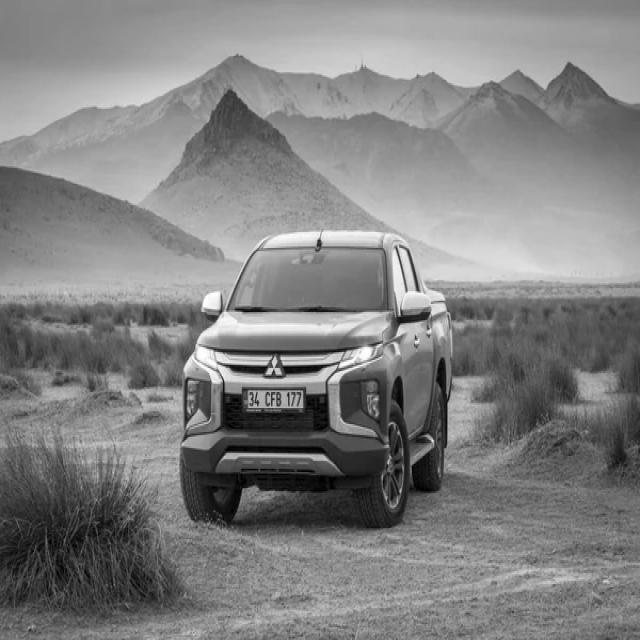Car: (180, 230, 454, 529)
